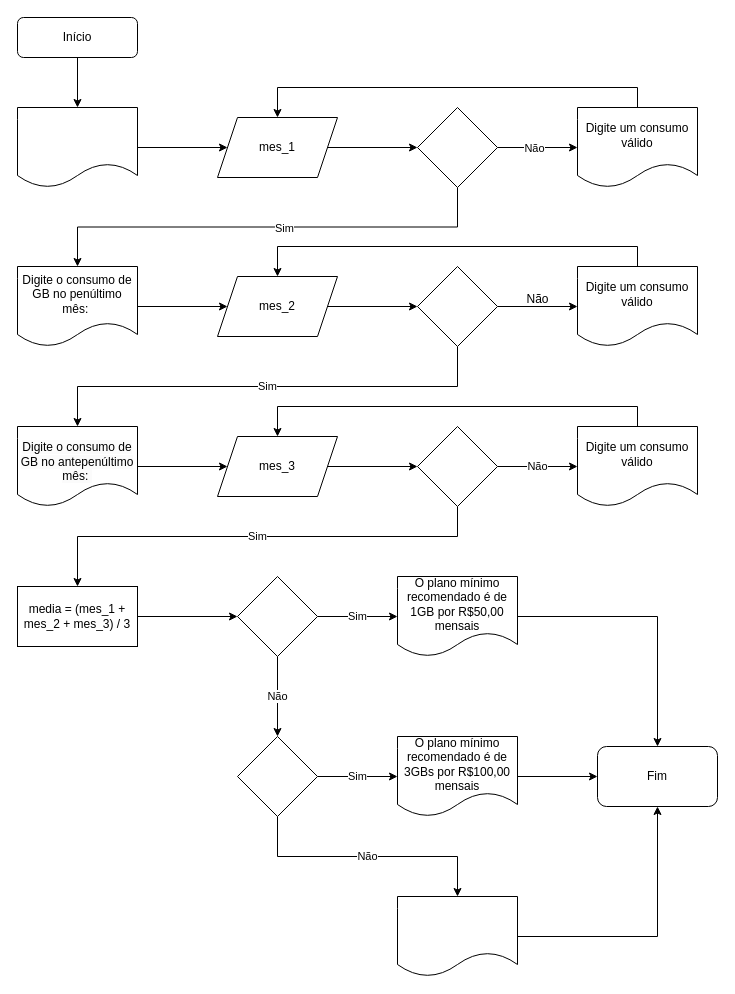
Some shapes in this 735 by 994 pixel diagram are drawn without their labels. Here are the shapes that lost their labels. From the top down, the box of each, then its label:
(16, 106, 138, 188): Digite o consumo de GB no último mês:
(416, 106, 498, 188): mes_1 > 0 ?
(416, 266, 498, 346): mes_2 > 0 ?
(416, 426, 498, 506): mes_3 > 0 ?
(236, 576, 318, 656): media <= 1 ?
(236, 736, 318, 816): media <= 3 ?
(396, 896, 518, 976): O plano recomendado é ilimitado por R$180,00 mensais
